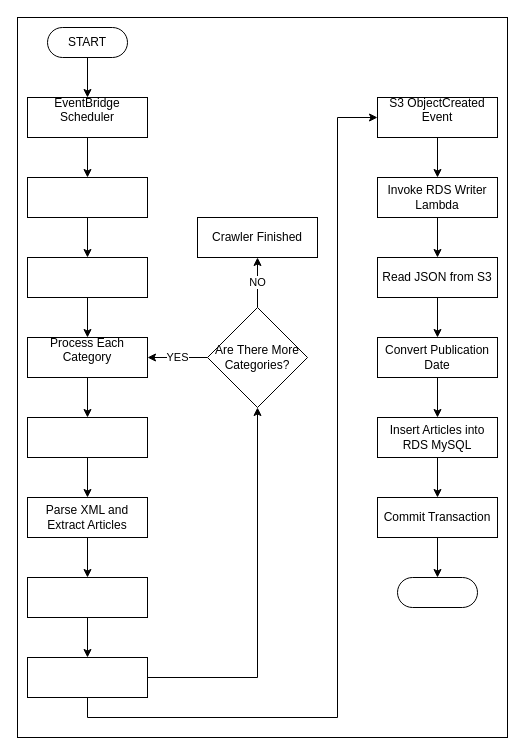
Image size: 525x755. Some labels were removed from this diagram. Each missing label, with the centre of its shape:
"Assign Rank" goes at [87,597].
"END" goes at [437,592].
"Fetch Google News RSS" goes at [87,437].
"Invoke Crawler Lambda" goes at [87,197].
"Load Category List" goes at [87,277].
"Store JSON in Amazon S3" goes at [87,677].
